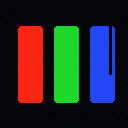4 line_v: (109, 24, 111, 74)
